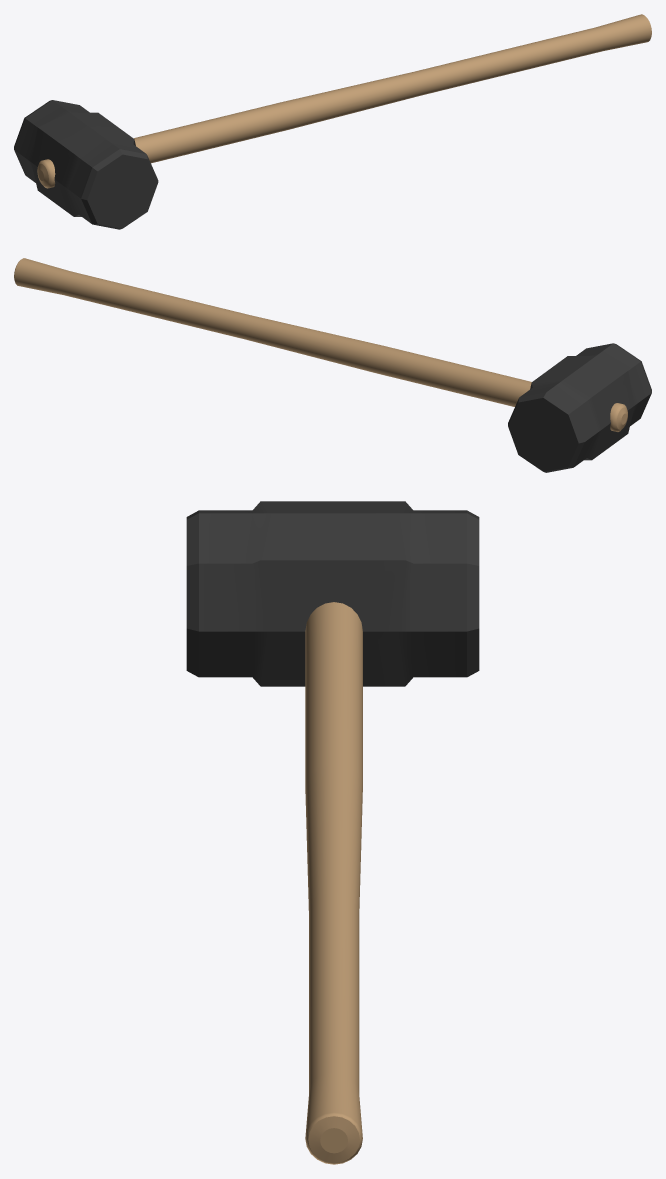
Rendered from SledgeHammer.fbx.
The picture shows the model from 3 angles, top to bottom: view 1: azimuth 30°, elevation 25°; view 2: azimuth 150°, elevation 25°; view 3: azimuth 270°, elevation 25°; orthographic projection. The views are drawn at different scales.
Parts seen in each view (by area): view 1: pCylinder9; view 2: pCylinder9; view 3: pCylinder9.
Boxes of the visible parts, x1,y1,x2,y2 form: pCylinder9: [14, 14, 651, 229]; pCylinder9: [14, 258, 651, 472]; pCylinder9: [186, 501, 479, 1164].
Bounding box in the file's own units: 15.71 × 2 × 3.29.
